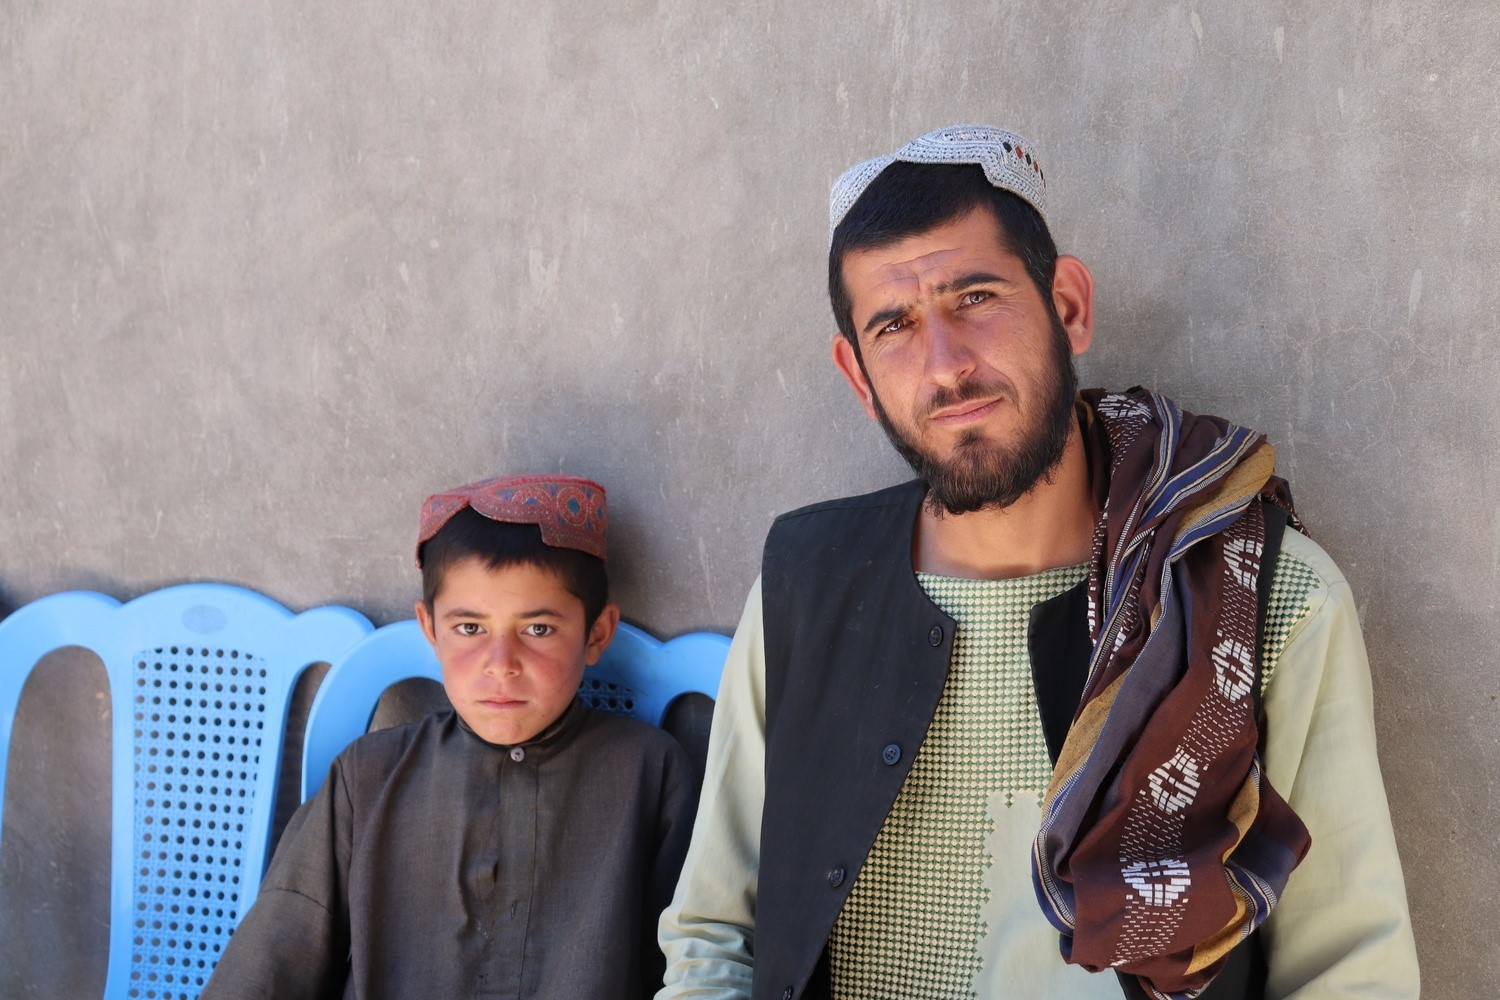face_no_mask: (825, 156, 1089, 502), (418, 492, 606, 748)
